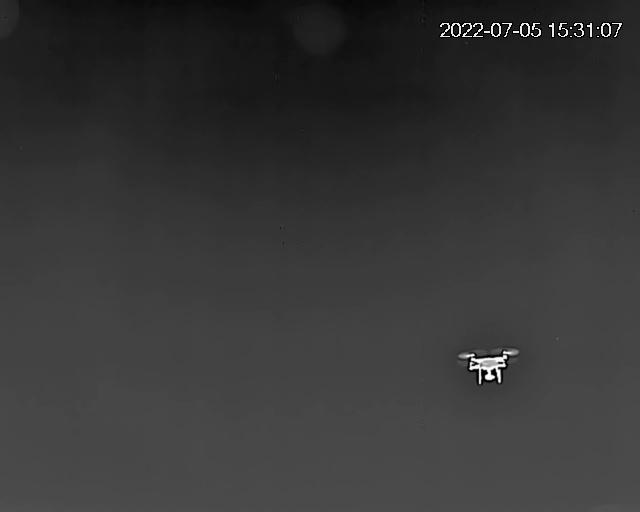DJI-Phantom: (456, 341, 523, 394)
